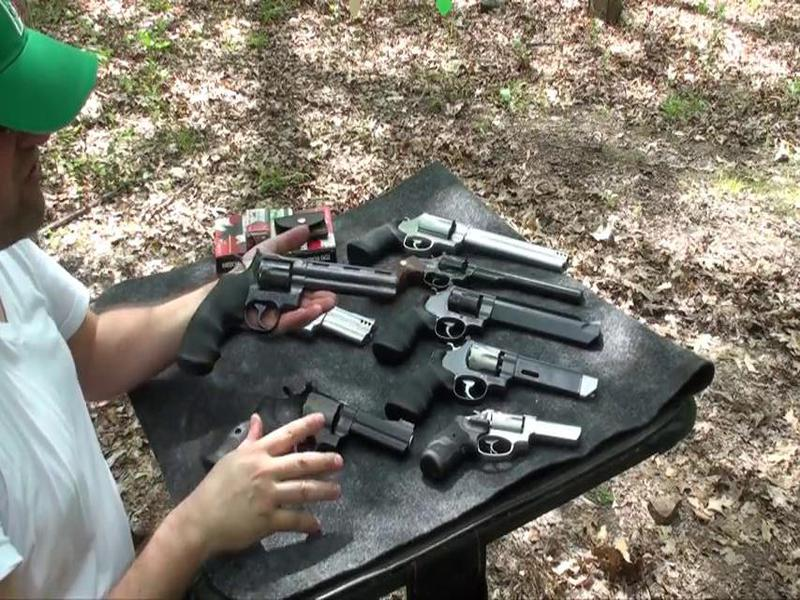Revolver: (185, 245, 400, 359), (417, 403, 587, 482)
